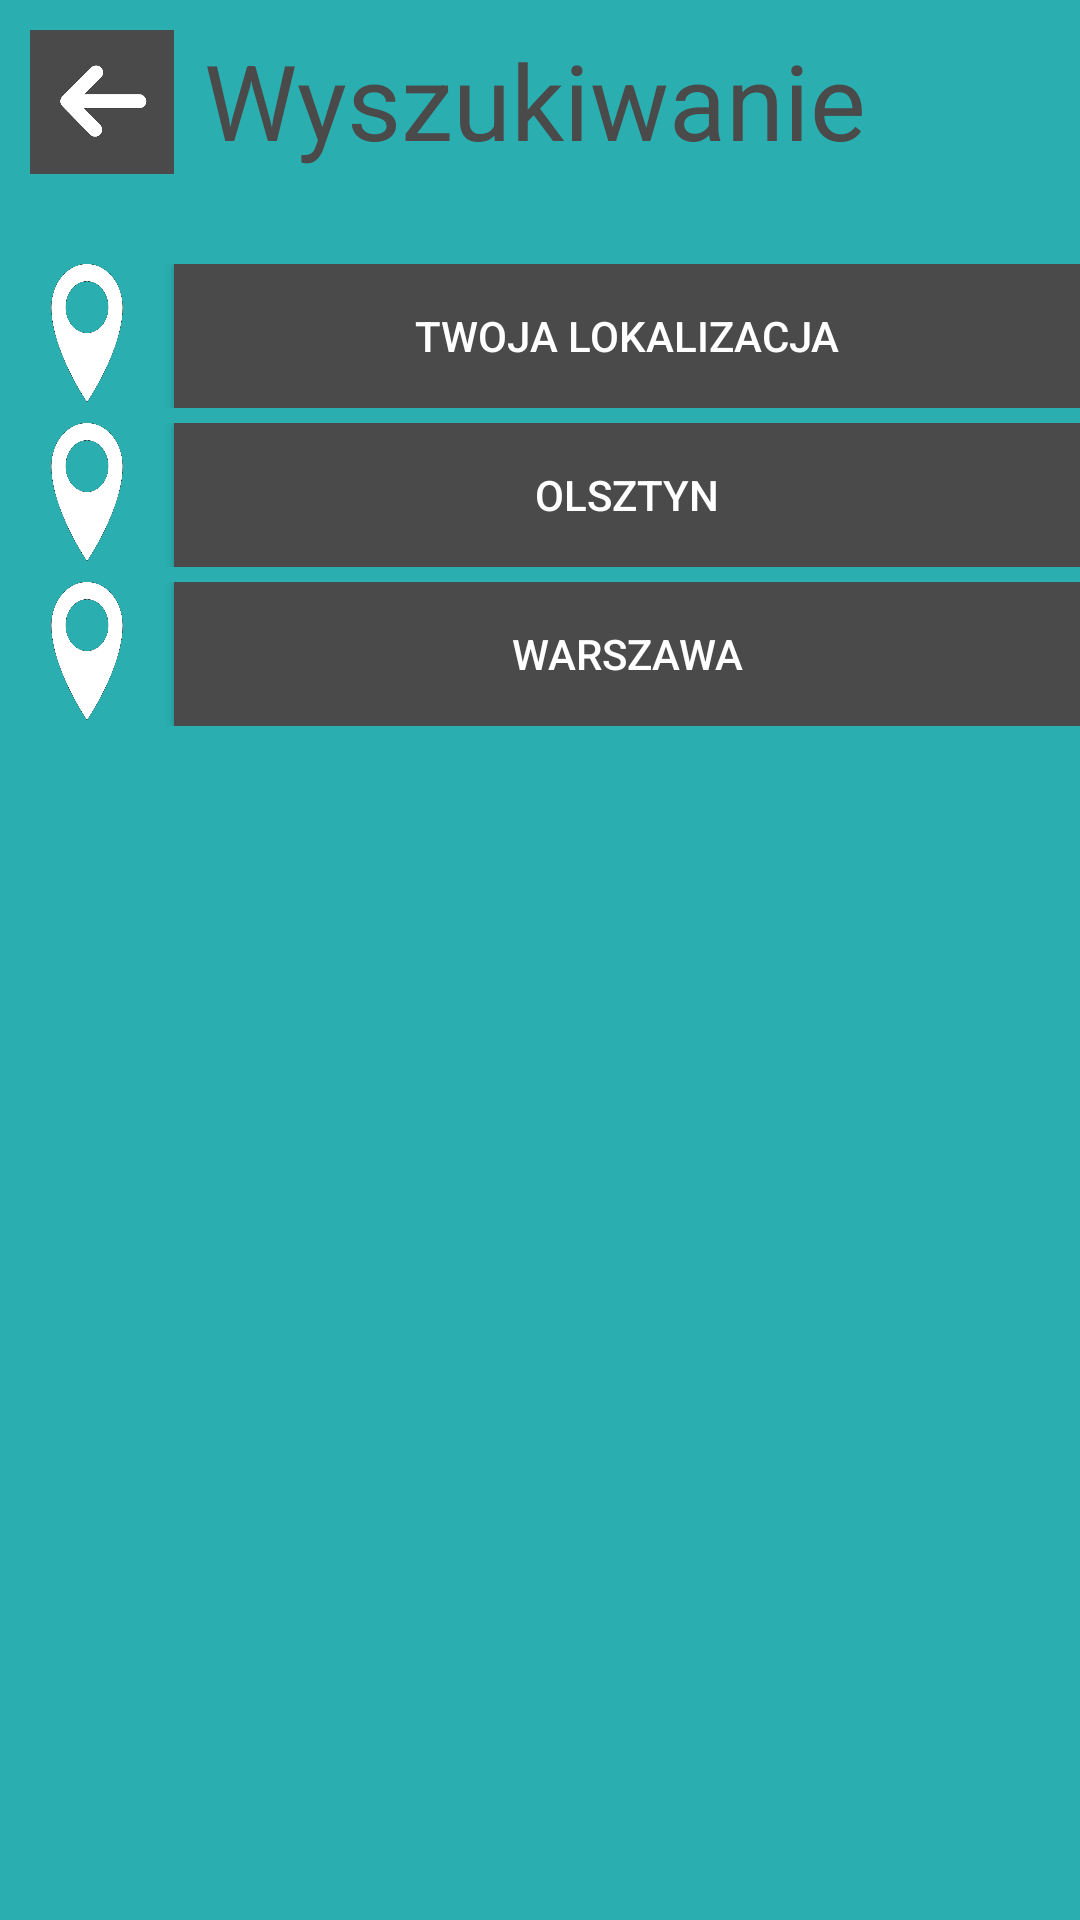

Point at icon controls on the screen. Image size 1080 × 1920, points as (x=x, y=y).
miejscowosc: (x=87, y=333), (x=87, y=492), (x=87, y=651)
strzalka: (x=102, y=102)
